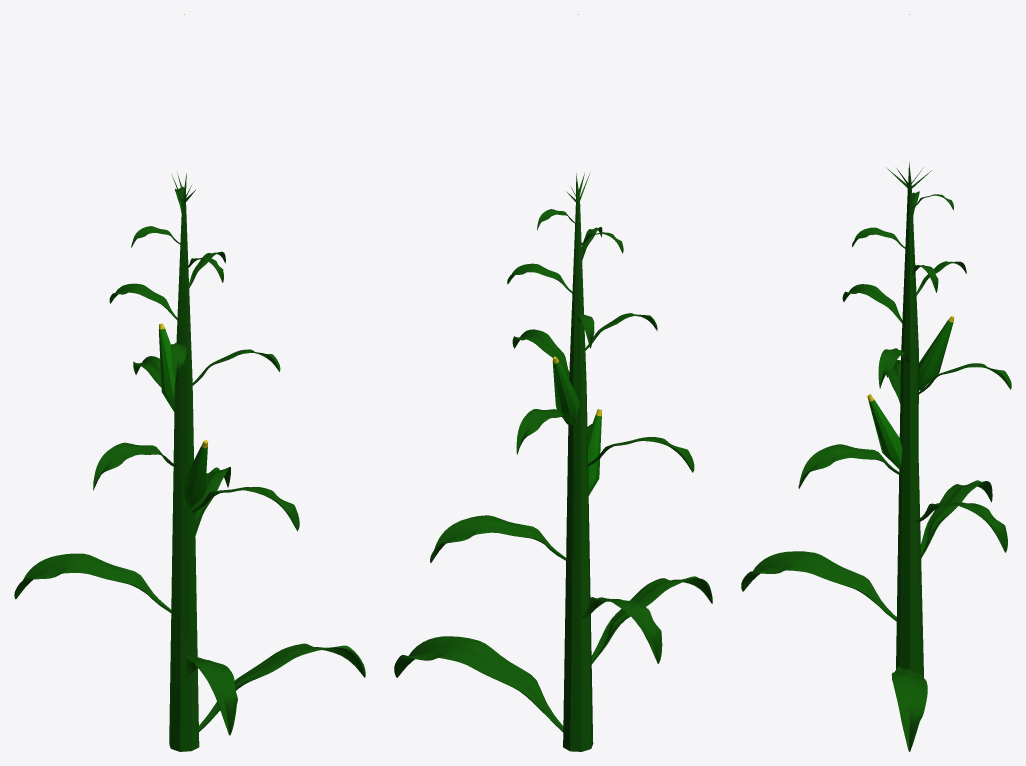
The model's file is maiz_low_poly.glb.
3 views of the same model, side by side, from view 1: azimuth 30°, elevation 25°; view 2: azimuth 150°, elevation 25°; view 3: azimuth 270°, elevation 25° (orthographic). The views are drawn at different scales.
Visible parts, largest first — view 1: Hojas, Tallo, Choclo; view 2: Hojas, Tallo, Choclo; view 3: Hojas, Tallo, Choclo.
Boxes of the visible parts, left/top/right/bottom form: Hojas: left=14, top=186, right=365, bottom=735; Tallo: left=169, top=14, right=199, bottom=751; Choclo: left=158, top=323, right=207, bottom=509; Hojas: left=394, top=209, right=712, bottom=732; Tallo: left=563, top=14, right=593, bottom=751; Choclo: left=552, top=356, right=601, bottom=495; Hojas: left=741, top=191, right=1011, bottom=751; Tallo: left=886, top=14, right=931, bottom=677; Choclo: left=867, top=316, right=954, bottom=469.
Bounding box in the file's own units: 1.31 × 2.96 × 1.07.
